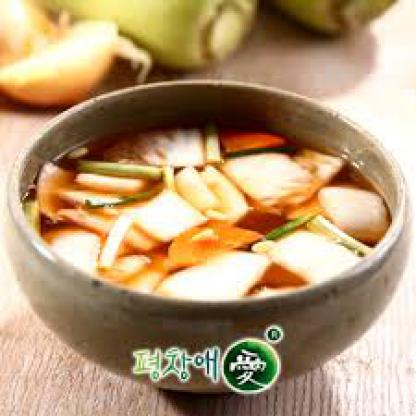nabak Kimchi: (28, 111, 394, 303)
